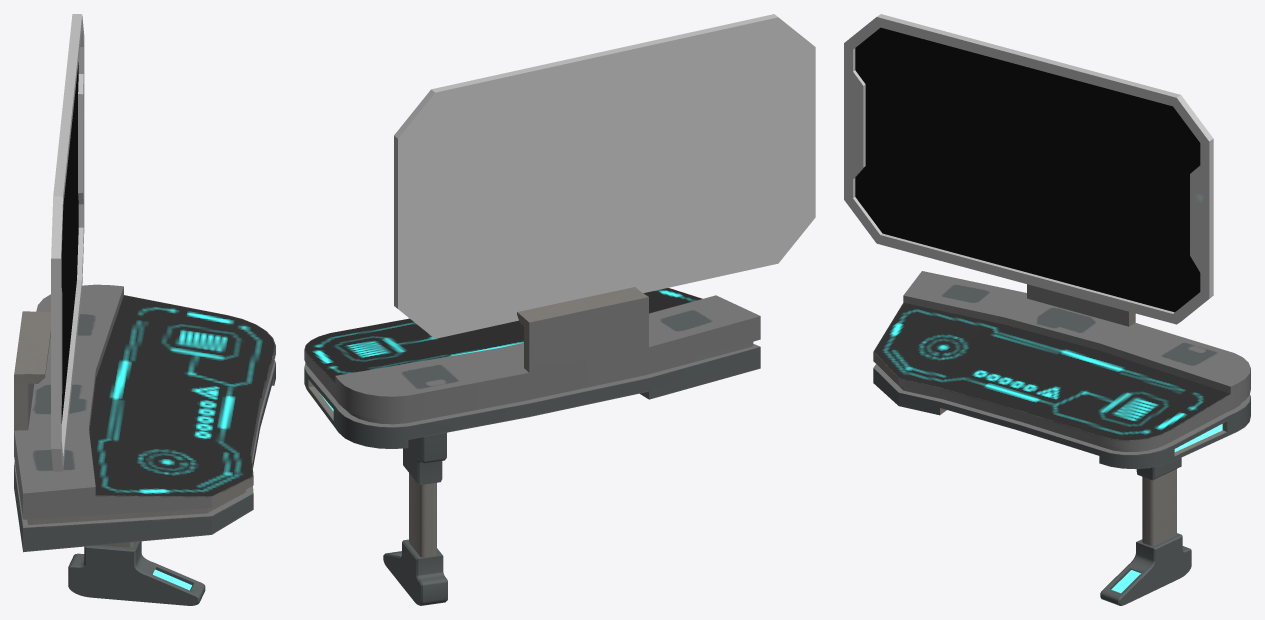
Rendered from panatllasx3 1.fbx.
The picture shows the model from 3 angles, left to right: view 1: azimuth 30°, elevation 25°; view 2: azimuth 150°, elevation 25°; view 3: azimuth 270°, elevation 25°; orthographic projection. The views are drawn at different scales.
Visible parts, largest first — view 1: Side_panel_low.001; view 2: Side_panel_low.001; view 3: Side_panel_low.001.
Boxes of the visible parts, x1,y1,x2,y2 form: Side_panel_low.001: (14,14,275,605); Side_panel_low.001: (304,14,815,605); Side_panel_low.001: (844,14,1250,605).
Bounding box in the file's own units: 96.75 × 137 × 106.
